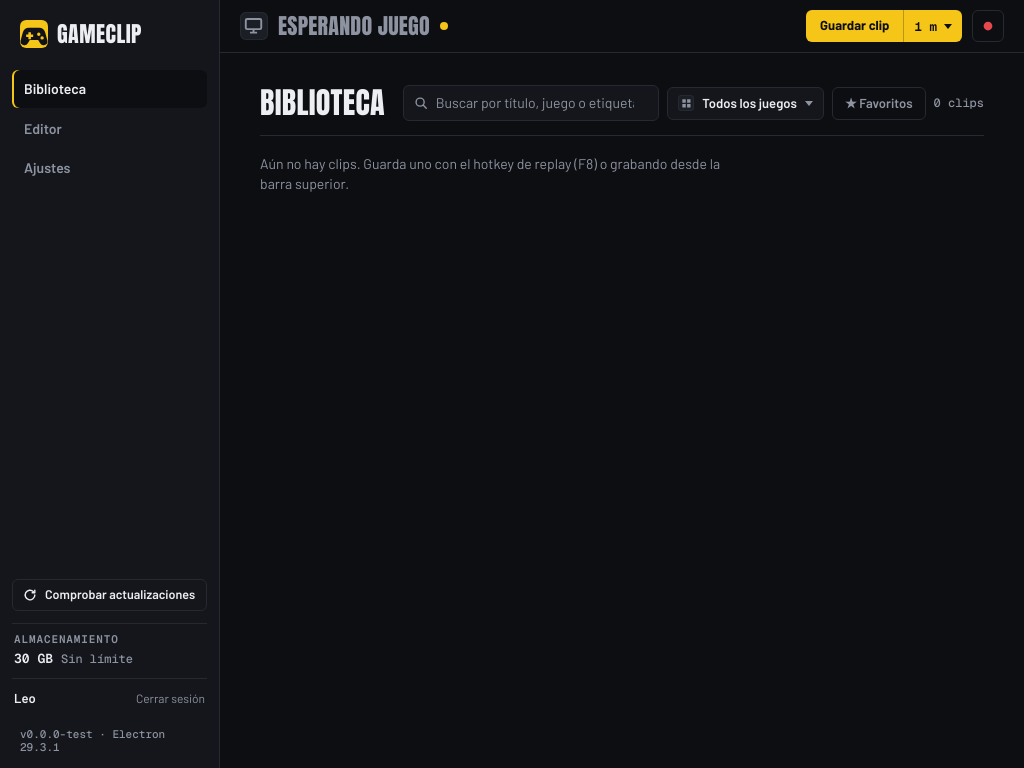
Ajustes — Overlay de rendimiento › lista las 9 métricas con su check y el estado por defecto
Click the link "Ajustes" at x=47, y=168, box [24,159,70,176]
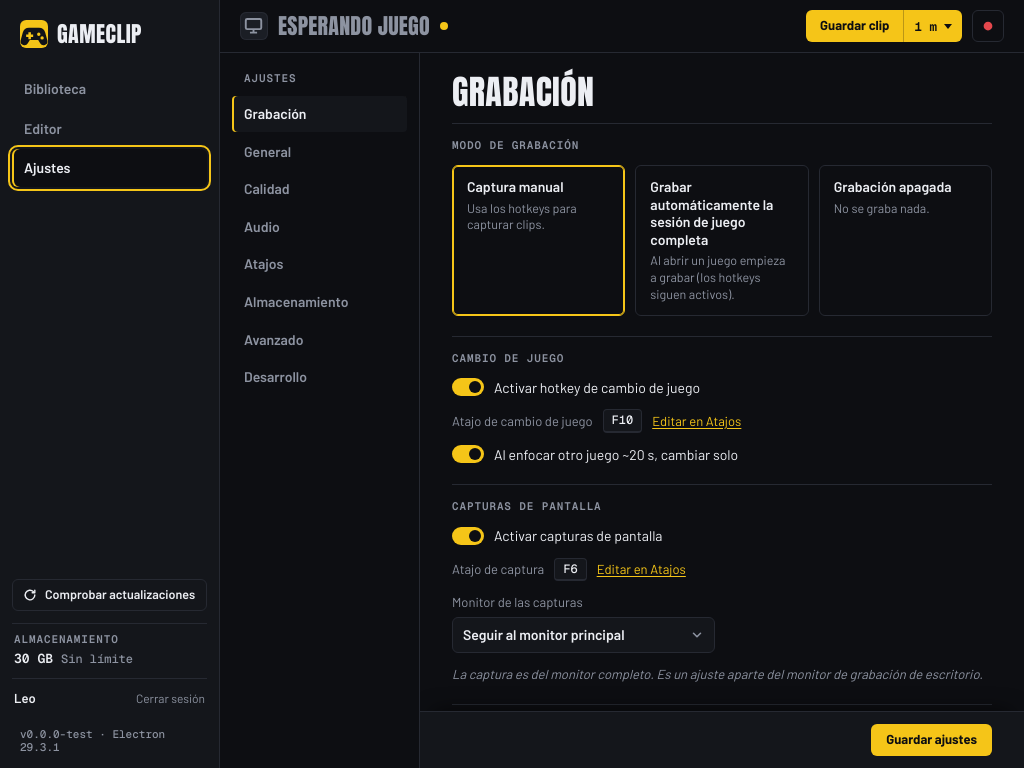
Click the link "Avanzado" at x=274, y=339, box [244,331,303,348]
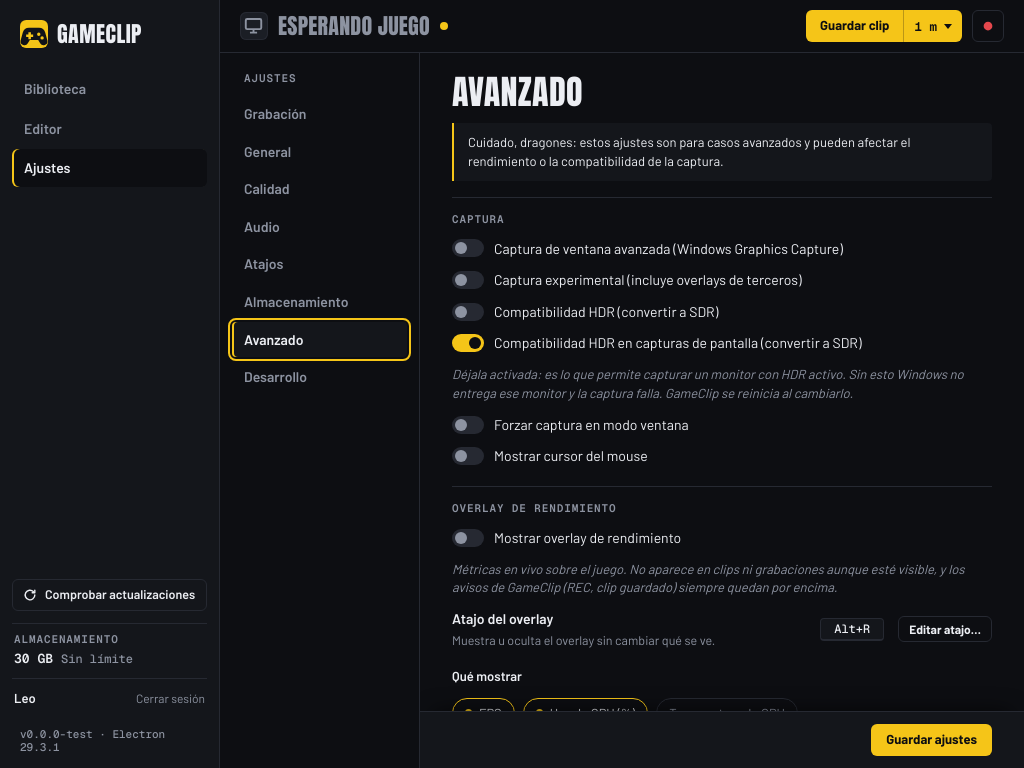
Check: the checkbox labelled "Mostrar overlay de rendimiento" is not checked, box [452,529,484,547]
